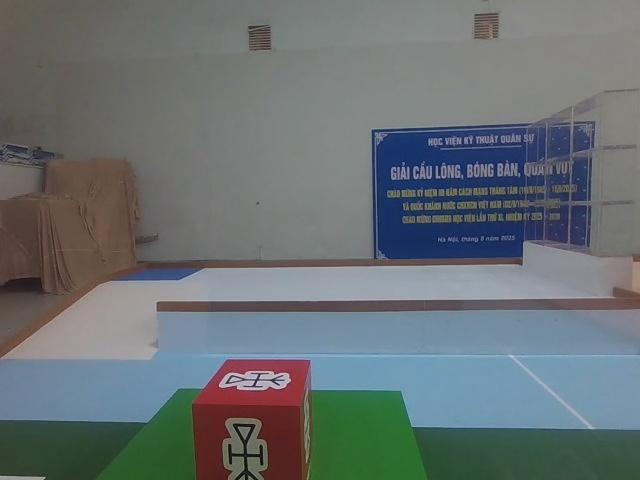R2 Real: (186, 361, 318, 480)
